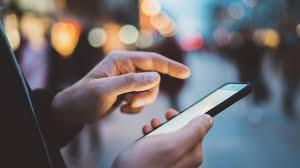Hand: (68, 46, 193, 122), (114, 114, 218, 168)
Smartphone: (128, 78, 250, 154)
